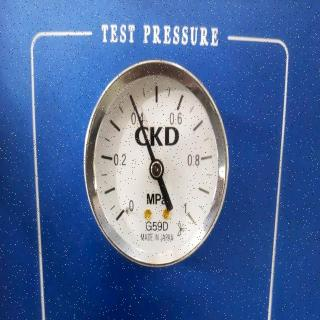gauge: (82, 49, 231, 313), (112, 201, 132, 223), (183, 205, 202, 228), (148, 159, 164, 179), (128, 92, 136, 102)
